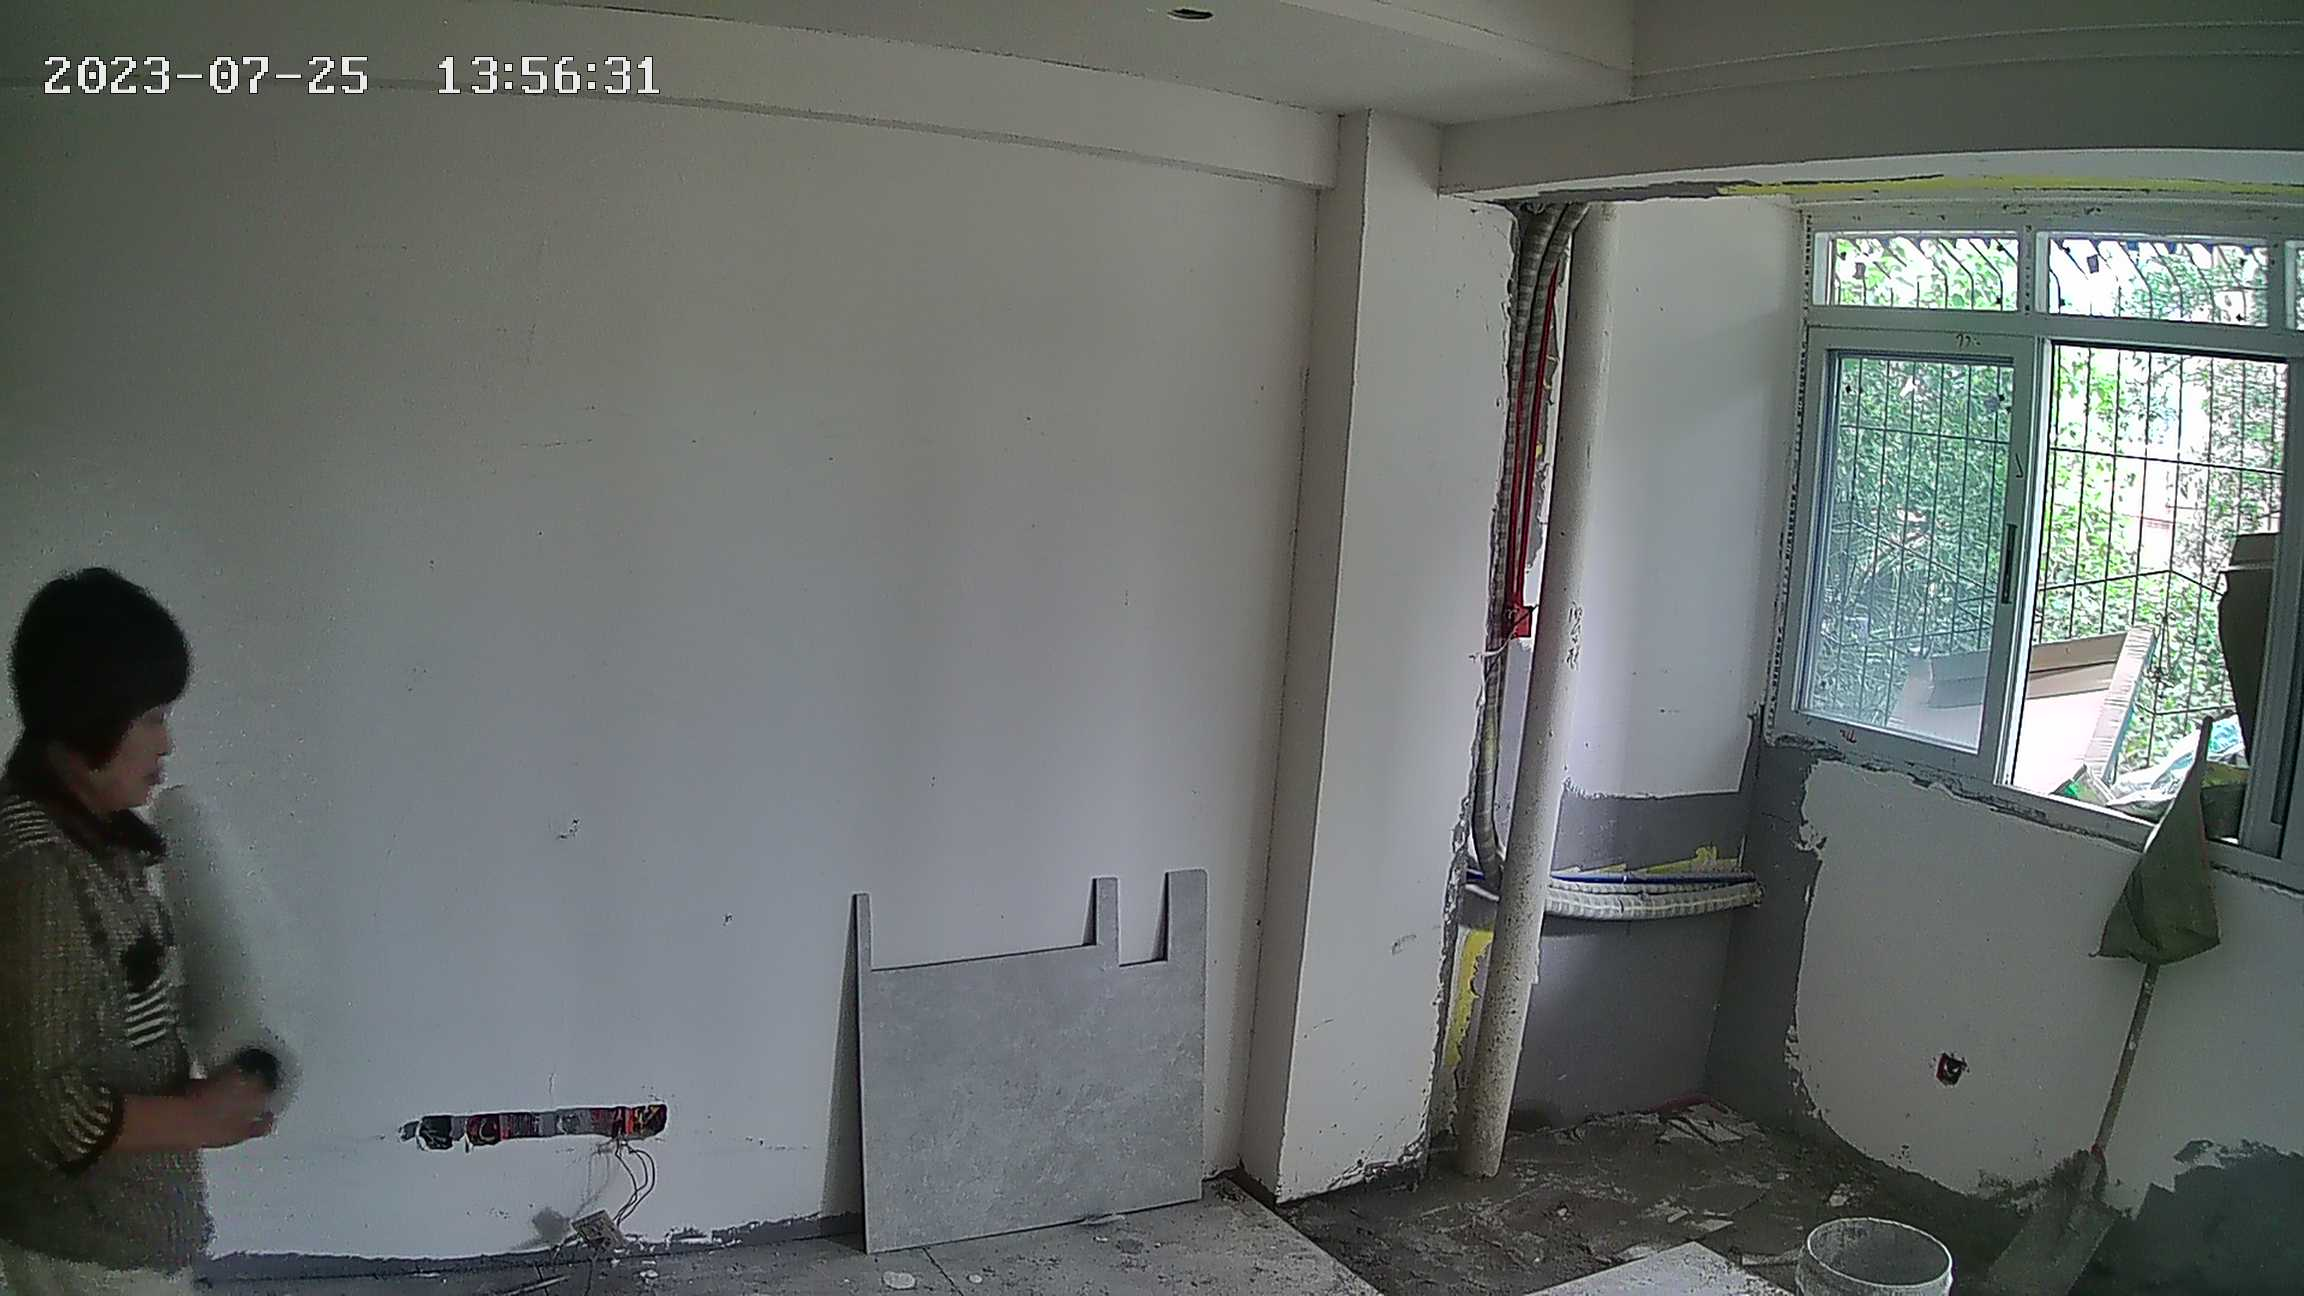people: (1, 553, 272, 1291)
window: (1810, 230, 2301, 858)
